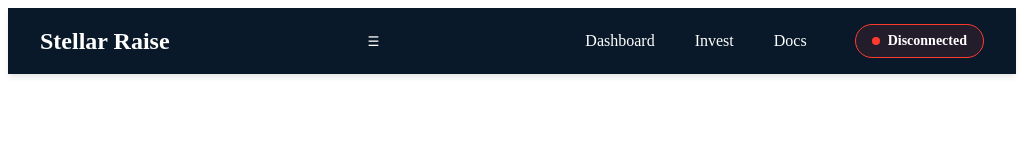
Scenario: 3. Mobile Menu Toggle - State › 3.3 clicking toggle opens the menu
The width and height of the screenshot is (1024, 160).
Click the button named "toggle navigation menu" at (374,41), box top-left (360, 26), bottom-right (388, 56)
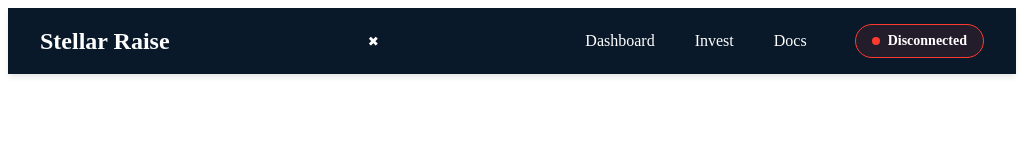
Check: the button named "toggle navigation menu" is expanded, box top-left (360, 26), bottom-right (387, 56)
